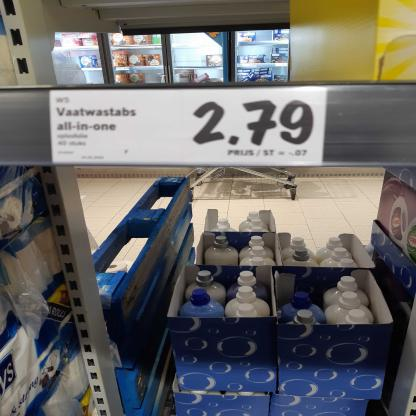prtg: (50, 88, 329, 167)
